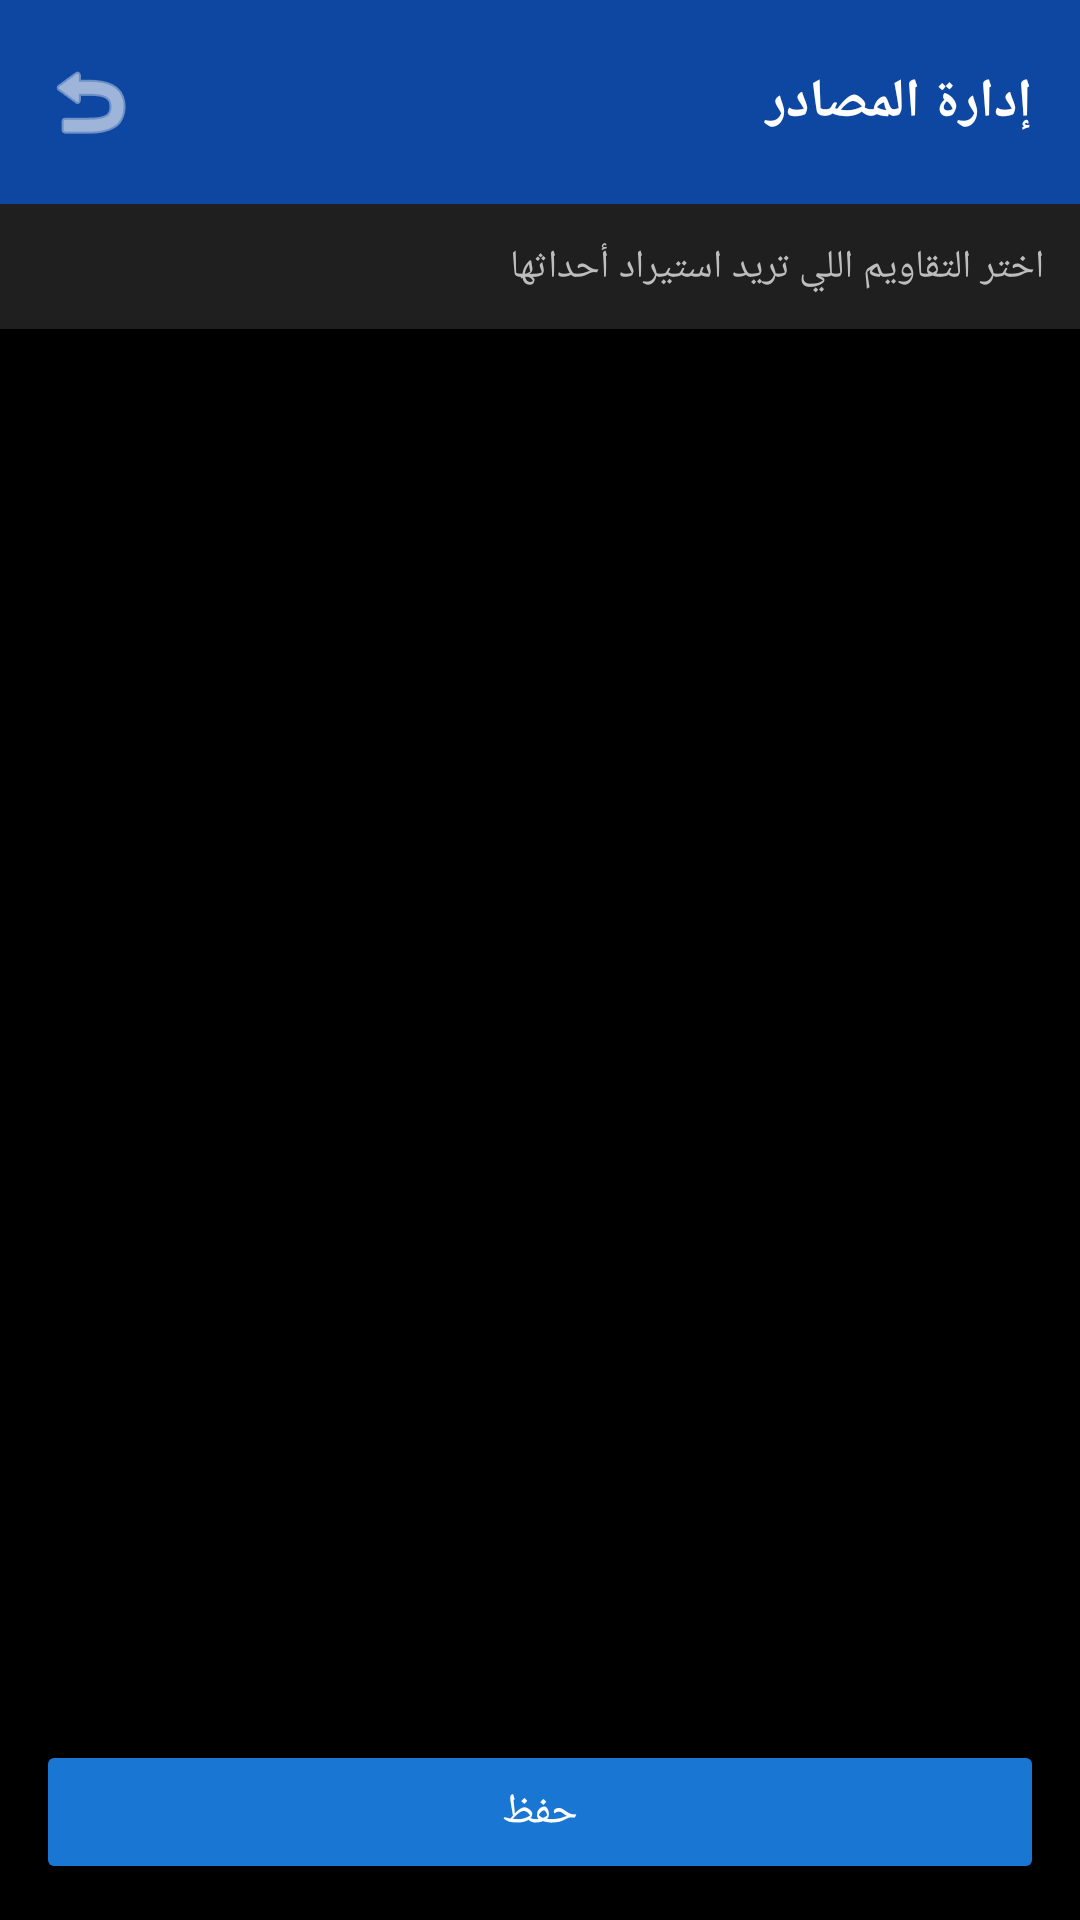

Screen size 1080*1920. Icon name, then its center in pixels as (x,y):
رجوع: (91,102)
